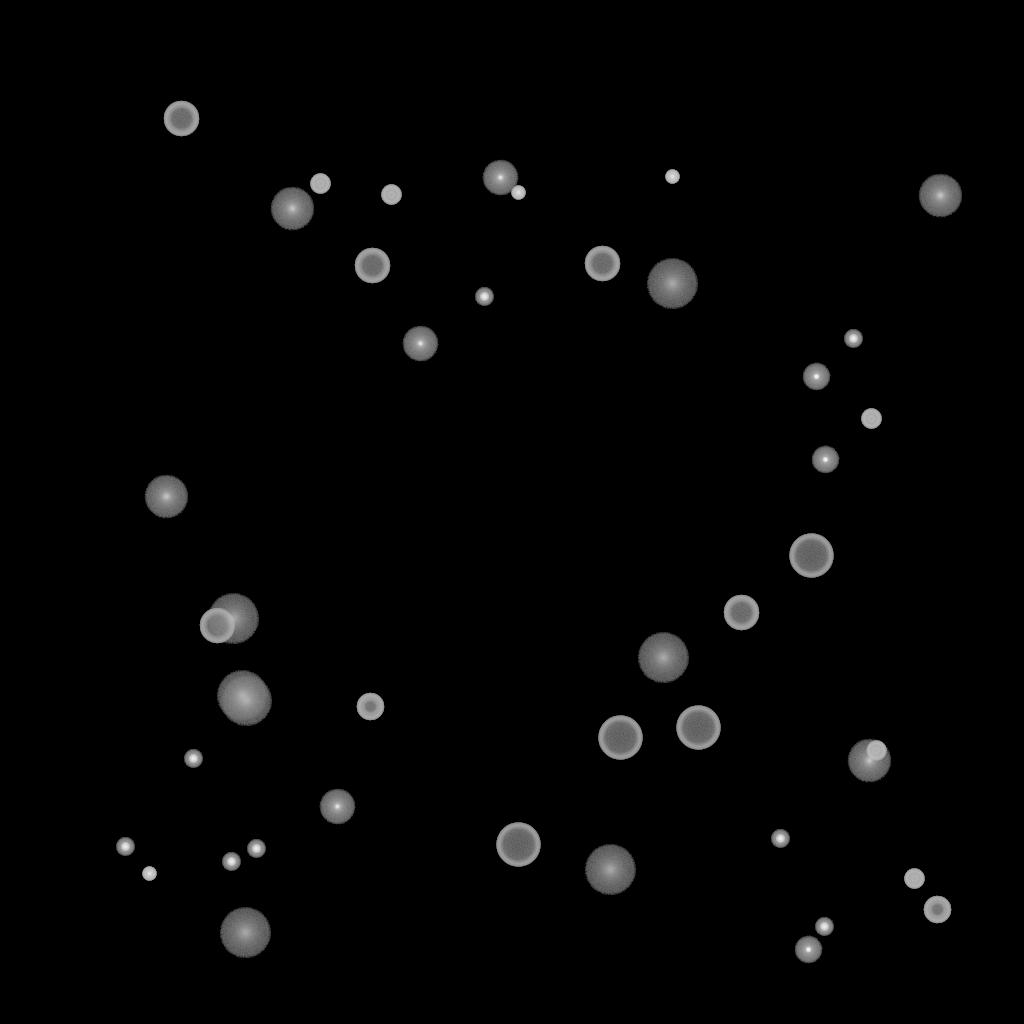depth:-10: (811, 446, 839, 474), (802, 363, 830, 391), (794, 936, 822, 964)
depth:-20: (815, 918, 833, 936), (844, 330, 862, 348), (247, 840, 265, 858), (475, 288, 493, 306), (116, 838, 134, 856), (222, 853, 240, 871), (771, 830, 789, 848), (184, 750, 202, 768)
depth:-30: (142, 867, 156, 881), (511, 186, 525, 200), (665, 170, 679, 184)
depth:-40: (381, 185, 401, 205), (861, 409, 881, 429), (904, 869, 924, 889), (310, 174, 330, 194), (866, 741, 886, 761)
depth:-50: (356, 693, 384, 721), (923, 896, 951, 924)
depth:-60: (354, 248, 390, 284), (584, 246, 620, 282), (723, 595, 759, 631), (163, 101, 199, 137), (199, 608, 235, 644)
depth:-70: (598, 716, 642, 760), (789, 534, 833, 578), (496, 823, 540, 867), (676, 706, 720, 750)
depth:0: (319, 789, 355, 825), (482, 160, 518, 196), (402, 326, 438, 362)
depth:10: (144, 475, 188, 519), (270, 187, 314, 231), (847, 739, 891, 783), (918, 174, 962, 218)
depth:20: (207, 594, 259, 644), (220, 676, 272, 726), (637, 633, 689, 683), (219, 908, 271, 958), (646, 259, 698, 309), (216, 671, 268, 721), (584, 845, 636, 895)
